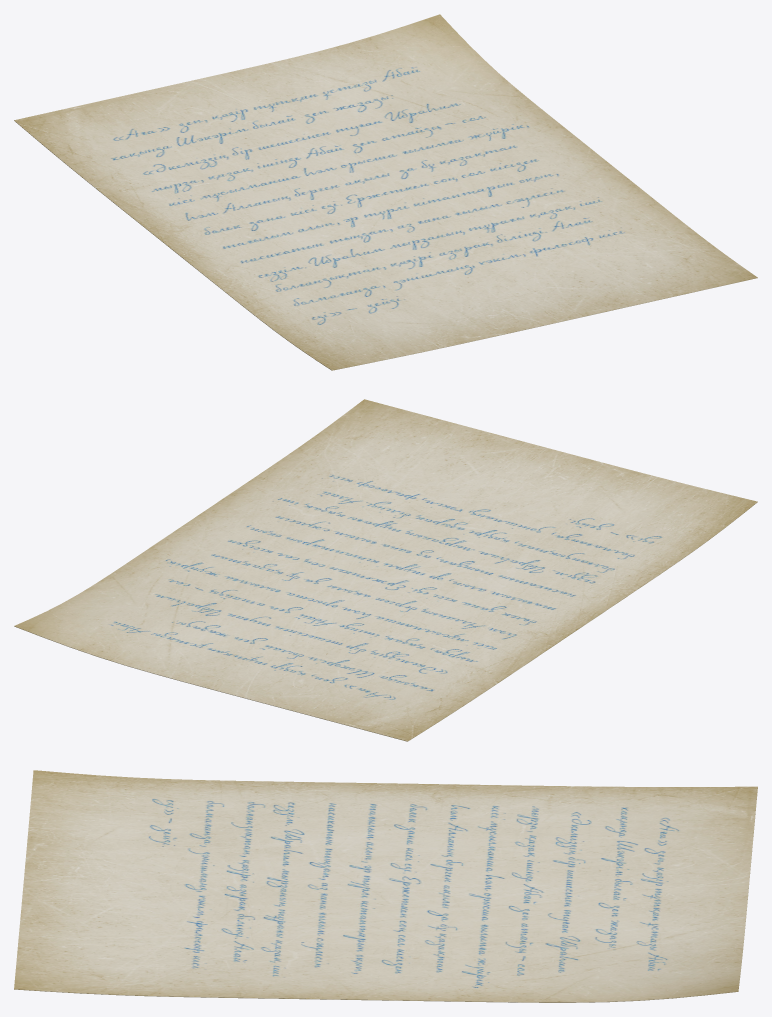
Rendered from paper.fbx.
3 views of the same model, one above another, from view 1: azimuth 30°, elevation 25°; view 2: azimuth 150°, elevation 25°; view 3: azimuth 270°, elevation 25° (orthographic). The views are drawn at different scales.
Visible parts, largest first — view 1: Plane.003; view 2: Plane.003; view 3: Plane.003.
Part boxes in pixels (x1,y1,x2,y2): Plane.003: [14, 14, 757, 370]; Plane.003: [14, 399, 757, 741]; Plane.003: [14, 770, 757, 1002].
Size of the model in its own units: 22.12 by 0.6694 by 30.48.
1 material, 1 textured.
